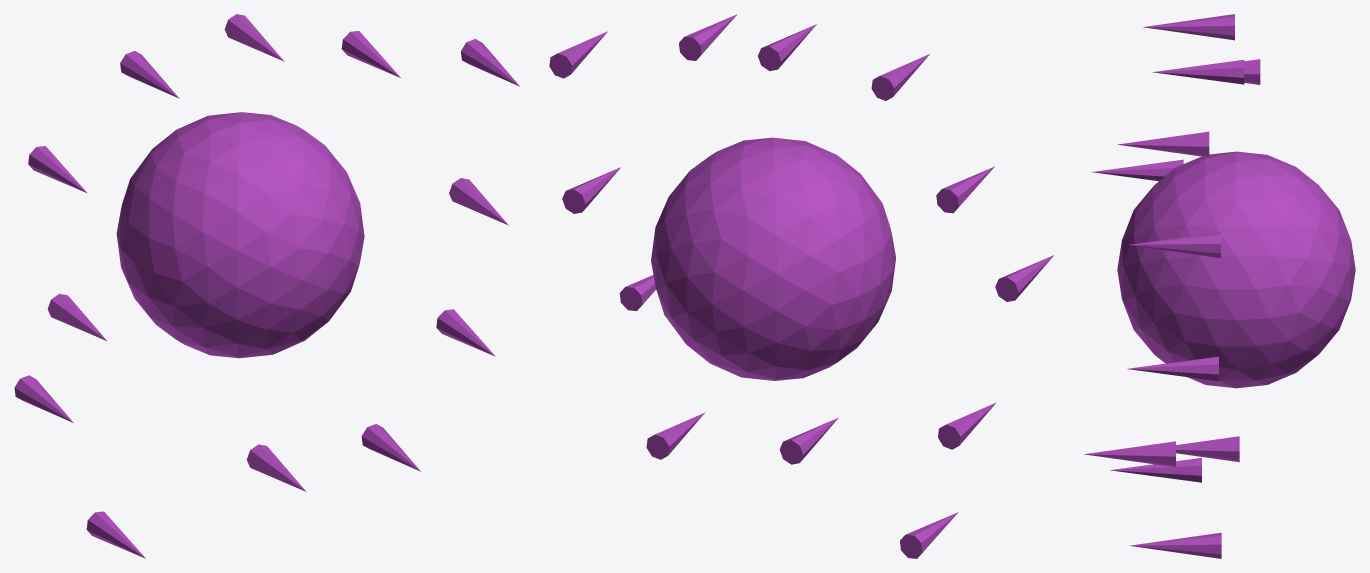
File: tech_146.glb
3 views of the same model, side by side, from view 1: azimuth 30°, elevation 25°; view 2: azimuth 150°, elevation 25°; view 3: azimuth 270°, elevation 25° (orthographic). The views are drawn at different scales.
Parts seen in each view (by area): view 1: world; view 2: world; view 3: world.
Part boxes in pixels (box(x1,y1,x2,y2)): world: box(14, 14, 519, 558); world: box(549, 14, 1053, 558); world: box(1084, 14, 1355, 558).
Bounding box in the file's own units: 1.91 × 1.94 × 1.03.
